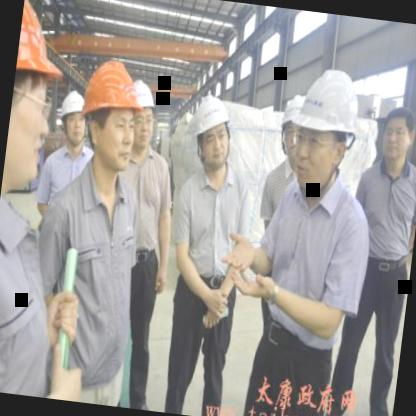head: (375, 98, 416, 171)
helmet: (0, 0, 73, 202), (286, 63, 366, 190), (72, 54, 148, 180), (182, 88, 239, 177), (120, 74, 163, 158), (276, 89, 312, 173), (55, 86, 92, 145)
